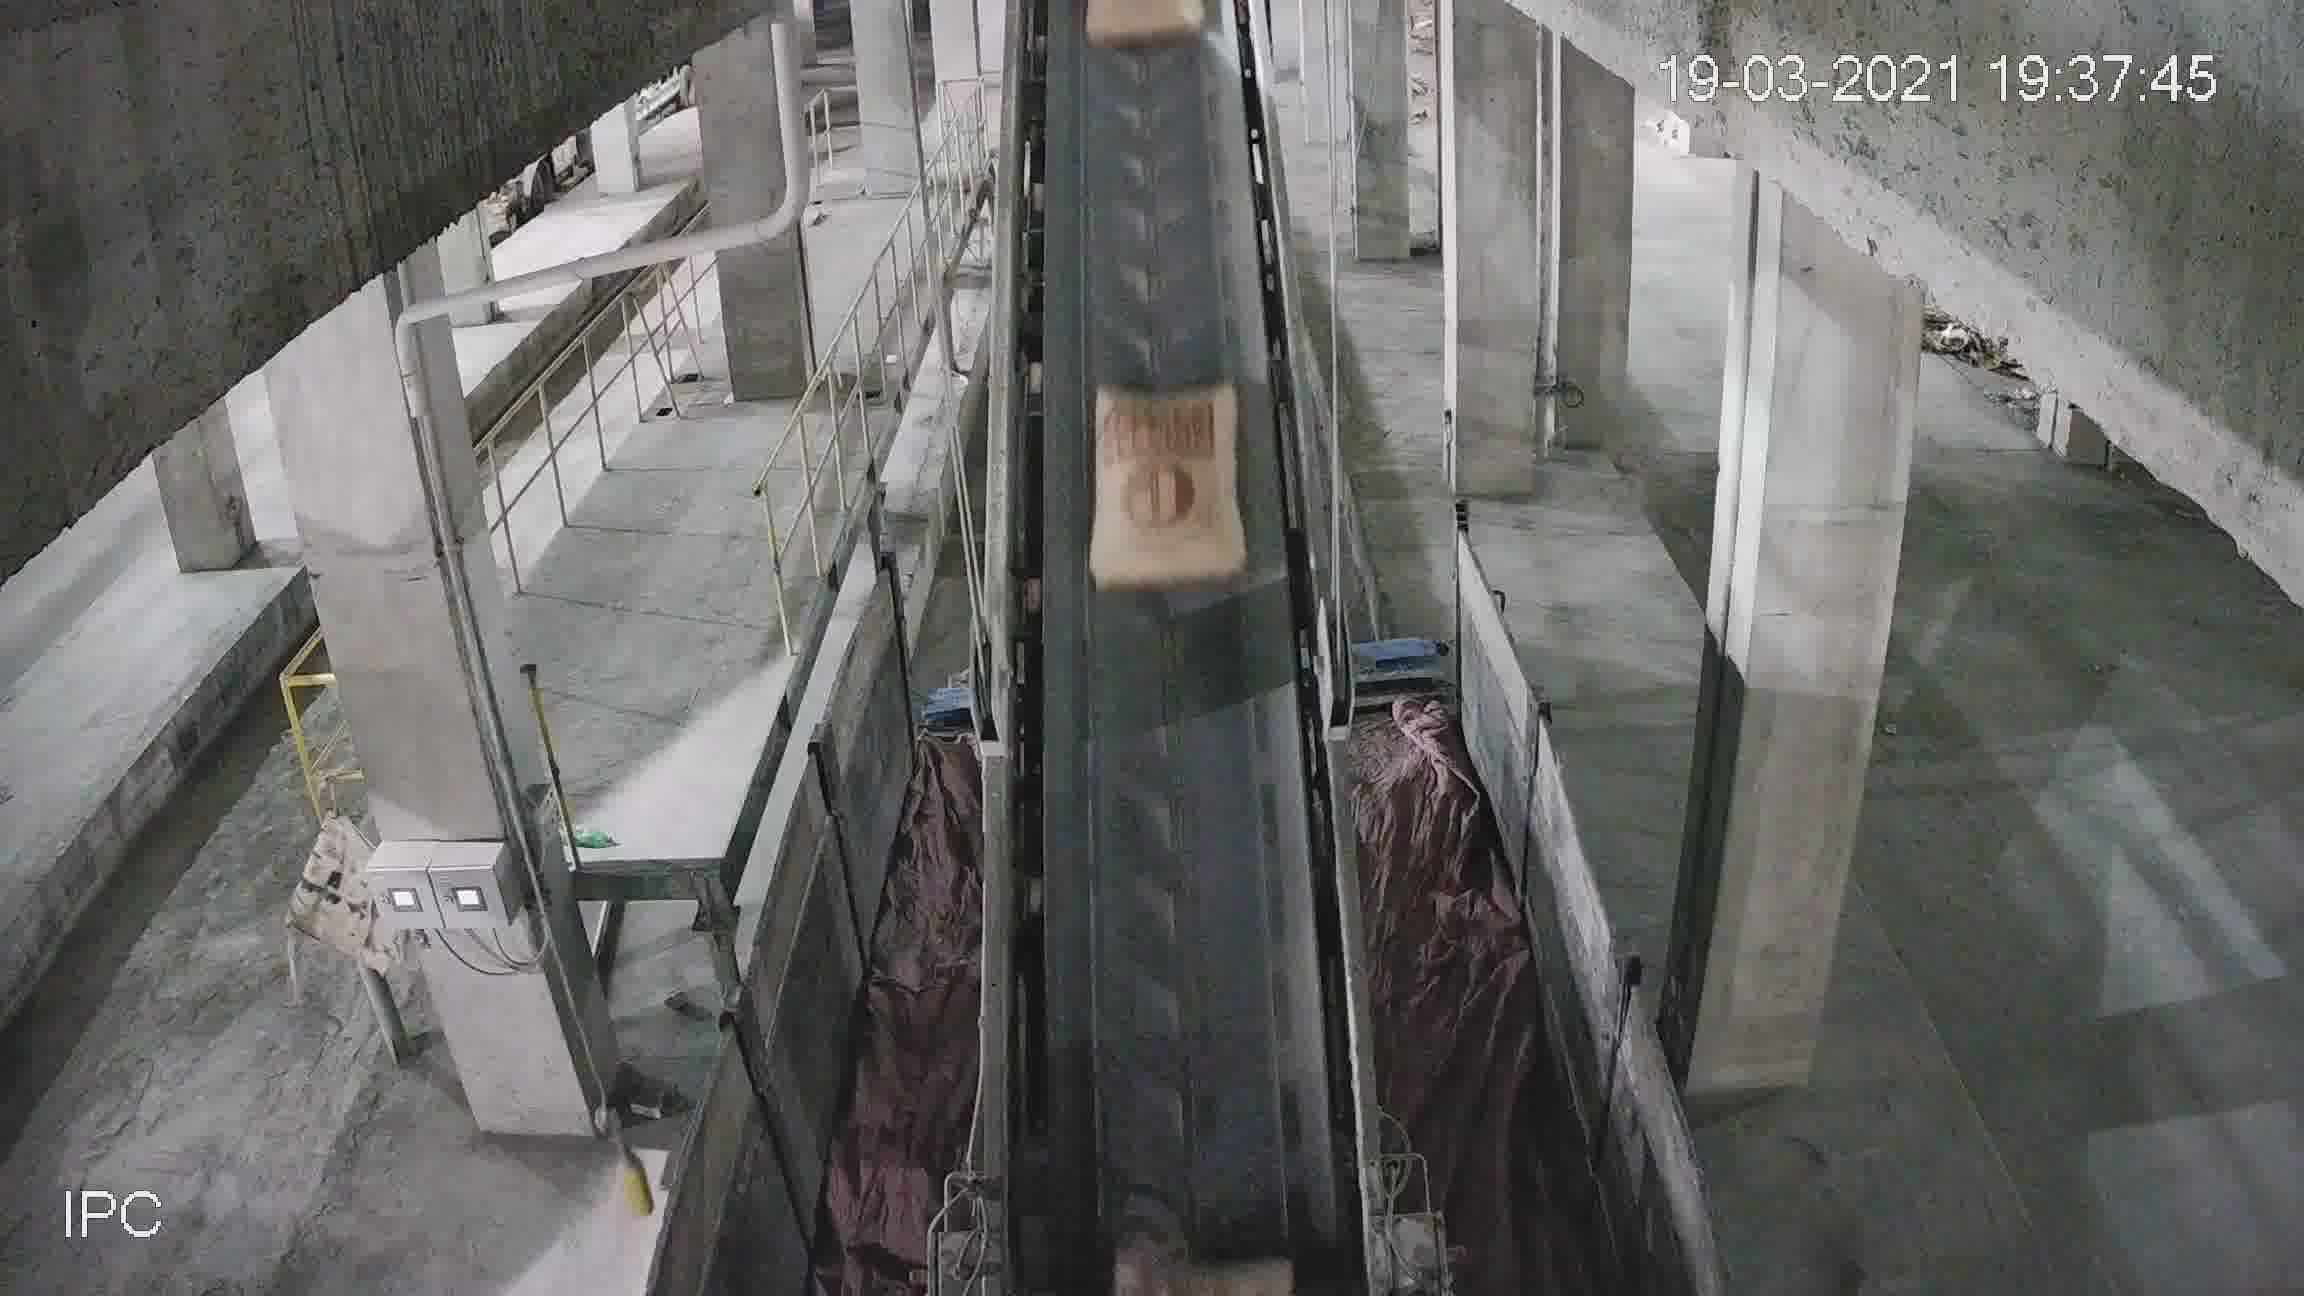bag: (1082, 389, 1245, 593)
belt: (975, 51, 1351, 1166)
